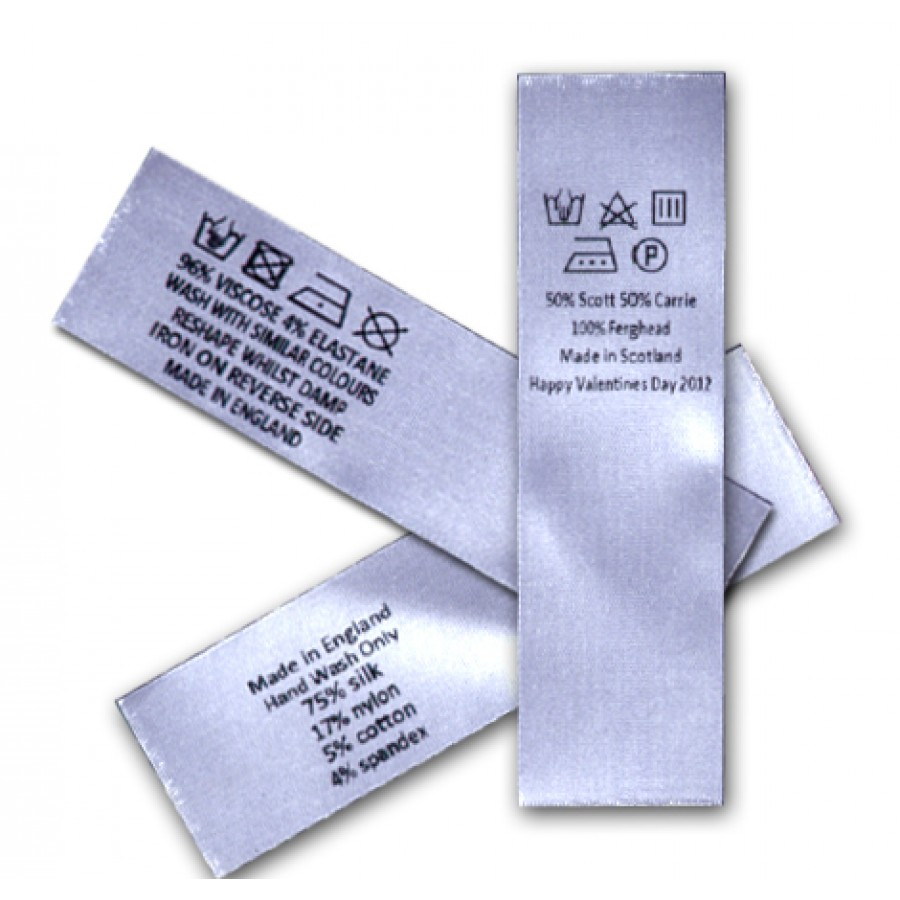do_not_dry_clean: (356, 310, 403, 351)
